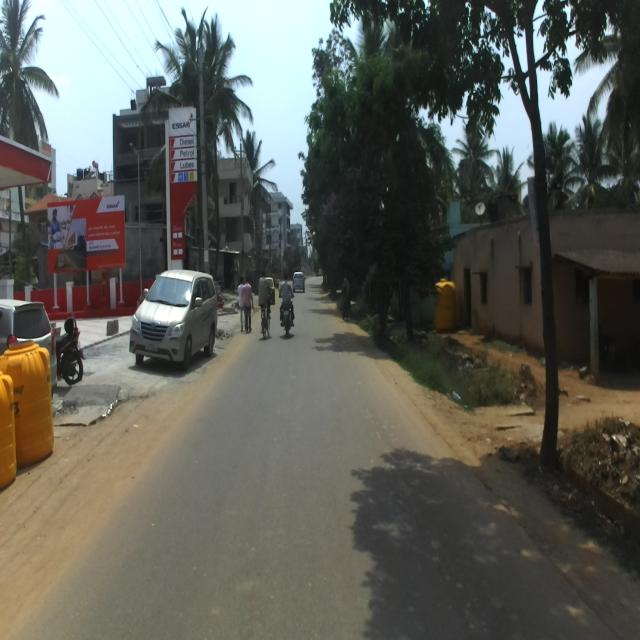car ahead at: (131, 263, 221, 381)
